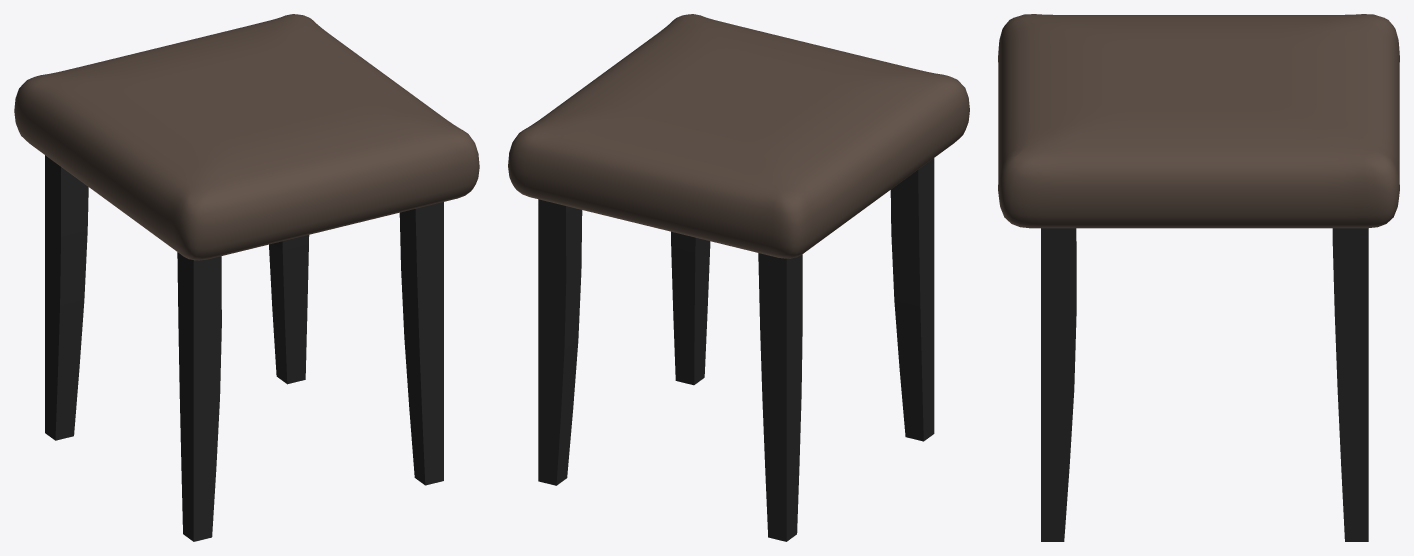
Rendered from Tabouret6_2.fbx.
The picture shows the model from 3 angles, left to right: view 1: azimuth 30°, elevation 25°; view 2: azimuth 150°, elevation 25°; view 3: azimuth 270°, elevation 25°; orthographic projection. The views are drawn at different scales.
Visible parts, largest first — view 1: pCube2647, polySurface996, polySurface994, polySurface995, polySurface993; view 2: pCube2647, polySurface995, polySurface993, polySurface996, polySurface994; view 3: pCube2647, polySurface994, polySurface993.
Boxes of the visible parts, x1,y1,x2,y2 form: pCube2647: (14,14,479,260); polySurface996: (177,252,221,541); polySurface994: (399,202,443,485); polySurface995: (45,155,88,440); polySurface993: (269,235,309,384); pCube2647: (508,14,969,258); polySurface995: (758,253,802,541); polySurface993: (538,199,582,485); polySurface996: (890,158,934,441); polySurface994: (671,231,710,385); pCube2647: (998,14,1399,228); polySurface994: (1041,228,1076,541); polySurface993: (1332,228,1368,541).
Bounding box in the file's own units: 38.55 × 44.75 × 40.86.
